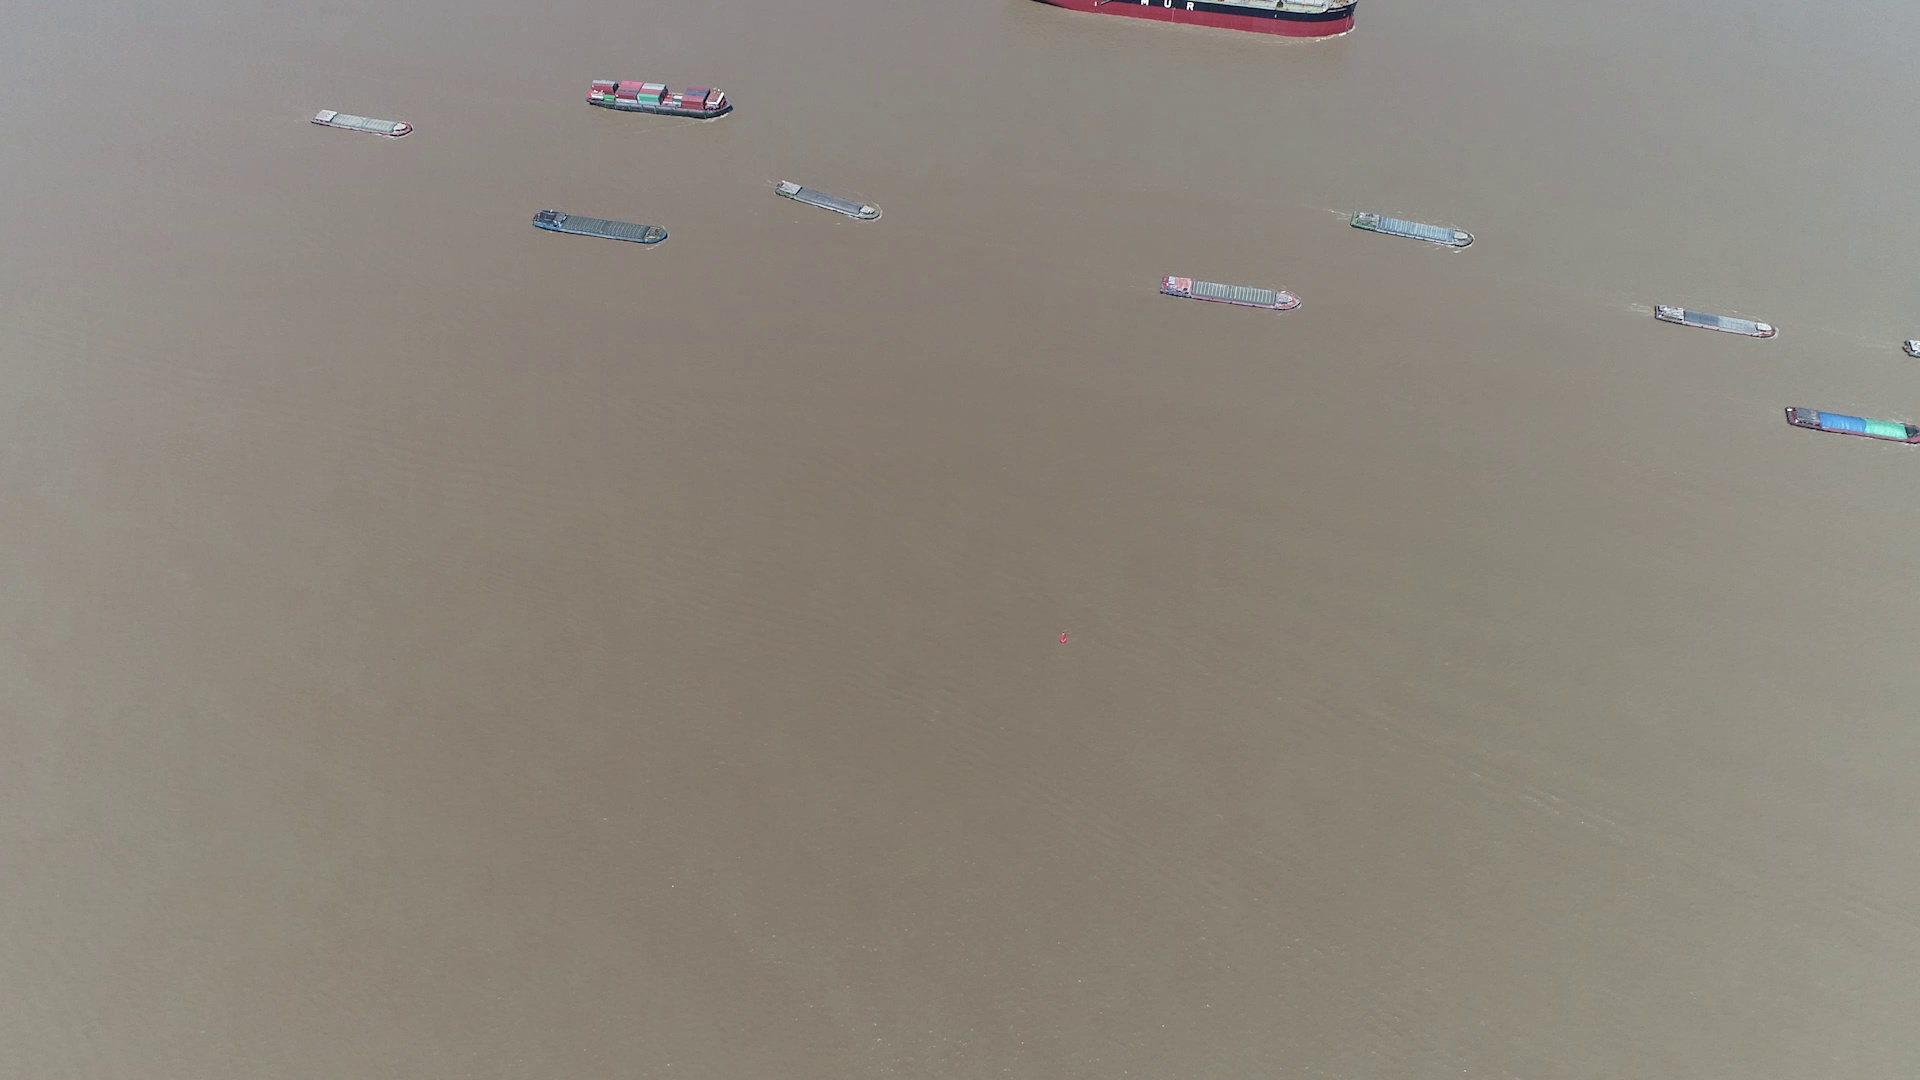ship: (1031, 0, 1354, 34), (1785, 404, 1920, 446), (589, 79, 735, 117), (1160, 274, 1299, 311), (1352, 210, 1476, 251), (531, 207, 663, 245), (773, 182, 882, 224), (1651, 303, 1780, 338), (311, 109, 411, 137)
